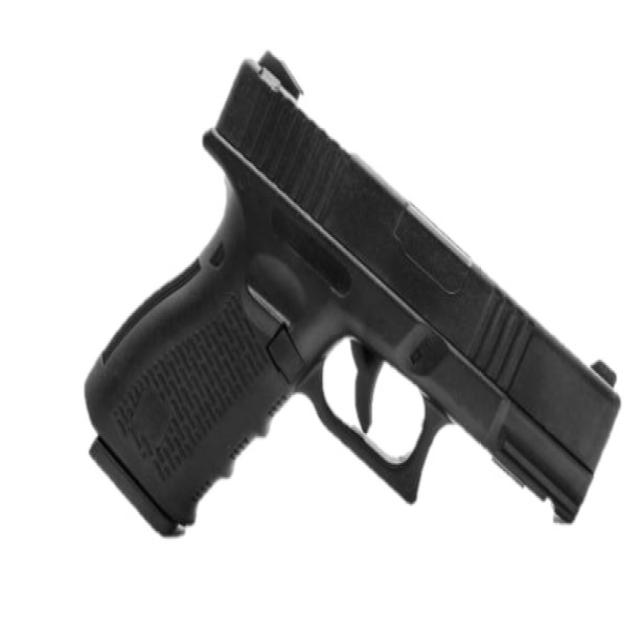pistol: (80, 45, 629, 560)
